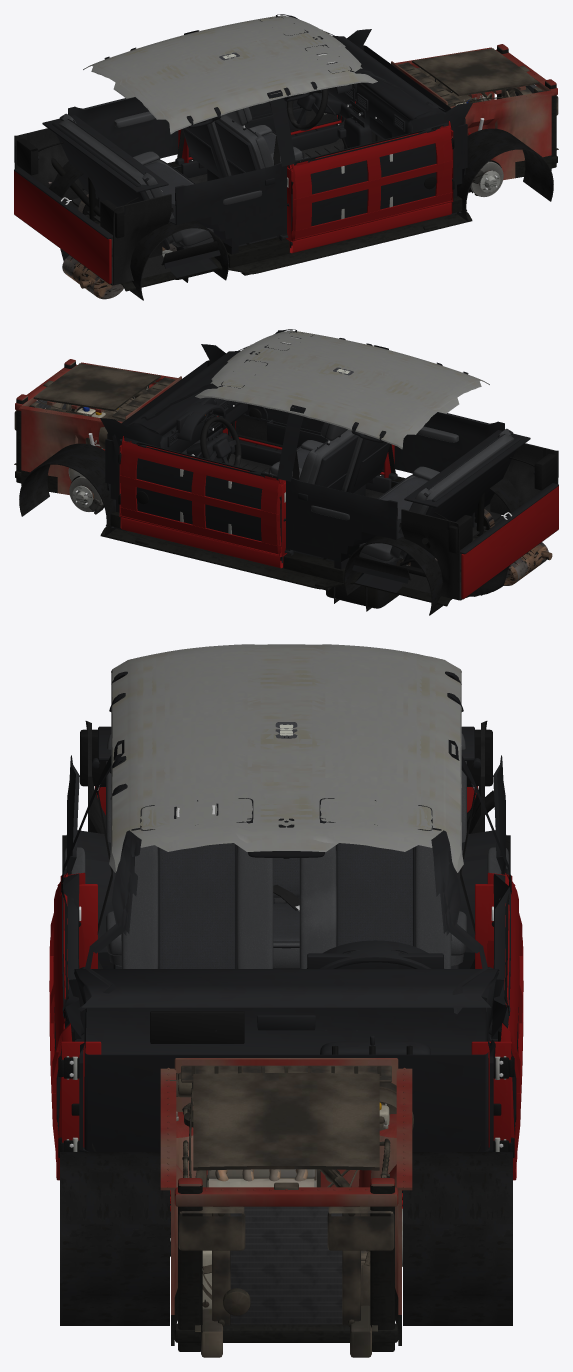
File: caipora-molde_completo.glb
The picture shows the model from 3 angles, top to bottom: view 1: azimuth 30°, elevation 25°; view 2: azimuth 150°, elevation 25°; view 3: azimuth 270°, elevation 25°; orthographic projection. The views are drawn at different scales.
Visible parts, largest first — view 1: interior_forro_teto, interior_portamalas_carpete, door_card_fr_chapa, interior_lateral_traseira_dir, interior_painel, interior_banco_traseiro, door_card_fr, engine_paralama_interno_dir, interior_lateral_traseira_esq, hood_manta, under_assoalho, under_caixa_roda_fr (+24 smaller); view 2: interior_forro_teto, interior_portamalas_carpete, door_card_fl_chapa, interior_lateral_traseira_esq, interior_painel, interior_banco_traseiro, door_card_fl, engine_paralama_interno_esq, interior_lateral_traseira_dir, hood_manta, under_assoalho, under_caixa_roda_fl (+23 smaller); view 3: interior_forro_teto, interior_painel, engine_travessa, under_caixa_roda_fl, under_caixa_roda_fr, hood_manta, interior_banco_dianteiro_dir, engine_radiador, interior_banco_dianteiro_esq, interior_acabamento_colunas, engine_corta_fogo, interior_banco_traseiro (+17 smaller).
Part boxes in pixels (<box>): interior_forro_teto: <box>83,15,377,134</box>; interior_portamalas_carpete: <box>14,128,171,285</box>; door_card_fr_chapa: <box>287,121,453,241</box>; interior_lateral_traseira_dir: <box>169,163,286,277</box>; interior_painel: <box>320,29,472,175</box>; interior_banco_traseiro: <box>52,113,213,250</box>; door_card_fr: <box>288,122,448,231</box>; engine_paralama_interno_dir: <box>450,90,554,180</box>; interior_lateral_traseira_esq: <box>68,97,178,208</box>; hood_manta: <box>412,48,539,98</box>; under_assoalho: <box>88,212,472,291</box>; under_caixa_roda_fr: <box>457,128,553,221</box>; interior_forro_teto: <box>195,330,489,449</box>; interior_portamalas_carpete: <box>398,443,558,600</box>; door_card_fl_chapa: <box>119,436,285,556</box>; interior_lateral_traseira_esq: <box>286,478,403,592</box>; interior_painel: <box>100,344,252,490</box>; interior_banco_traseiro: <box>359,428,520,565</box>; door_card_fl: <box>124,437,283,546</box>; engine_paralama_interno_esq: <box>18,405,122,495</box>; interior_lateral_traseira_dir: <box>394,412,504,527</box>; hood_manta: <box>33,363,160,413</box>; under_assoalho: <box>100,527,484,606</box>; under_caixa_roda_fl: <box>19,443,115,536</box>; interior_forro_teto: <box>109,644,463,872</box>; interior_painel: <box>68,940,504,1151</box>; engine_travessa: <box>174,1170,398,1351</box>; under_caixa_roda_fl: <box>403,1152,512,1325</box>; under_caixa_roda_fr: <box>60,1152,169,1325</box>; hood_manta: <box>193,1073,379,1170</box>; interior_banco_dianteiro_dir: <box>121,843,273,968</box>; engine_radiador: <box>212,1206,360,1326</box>; interior_banco_dianteiro_esq: <box>299,843,451,968</box>; interior_acabamento_colunas: <box>62,740,510,1014</box>; engine_corta_fogo: <box>166,1058,413,1187</box>; interior_banco_traseiro: <box>106,733,466,968</box>.
Size of what is drawn, in the model's own units: 3.6 by 1.41 by 1.53.
54 materials, 54 textured.
